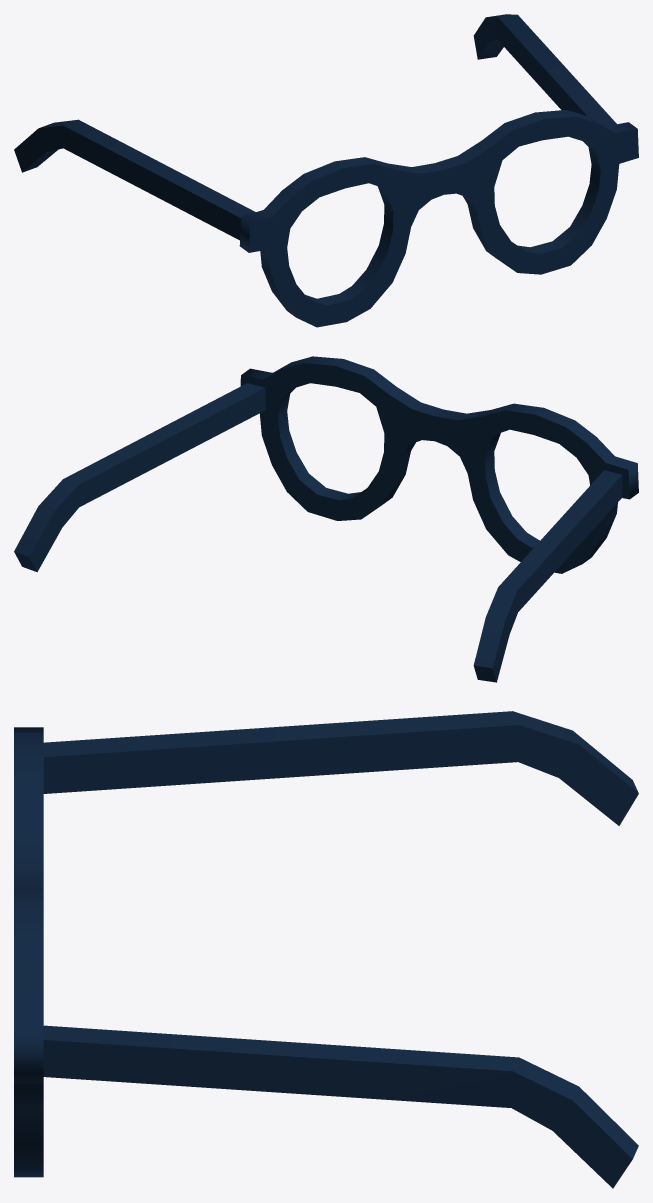
Rendered from Glasses_02.fbx.
3 views of the same model, one above another, from view 1: azimuth 30°, elevation 25°; view 2: azimuth 150°, elevation 25°; view 3: azimuth 270°, elevation 25° (orthographic). The views are drawn at different scales.
Parts seen in each view (by area): view 1: Glasses_02.c, Glasses_stick_17.001, Glasses_stick_17.002; view 2: Glasses_02.c, Glasses_stick_17.002, Glasses_stick_17.001; view 3: Glasses_stick_17.002, Glasses_stick_17.001, Glasses_02.c.
Boxes of the visible parts, x1,y1,x2,y2 form: Glasses_02.c: (239,110,638,327); Glasses_stick_17.001: (14,119,255,240); Glasses_stick_17.002: (473,14,616,126); Glasses_02.c: (240,356,638,573); Glasses_stick_17.002: (14,383,265,572); Glasses_stick_17.001: (473,470,622,682); Glasses_stick_17.002: (43,1025,638,1188); Glasses_stick_17.001: (43,711,638,825); Glasses_02.c: (14,727,43,1177).
Size of the model in its own units: 0.7118 by 0.2198 by 0.4955.
